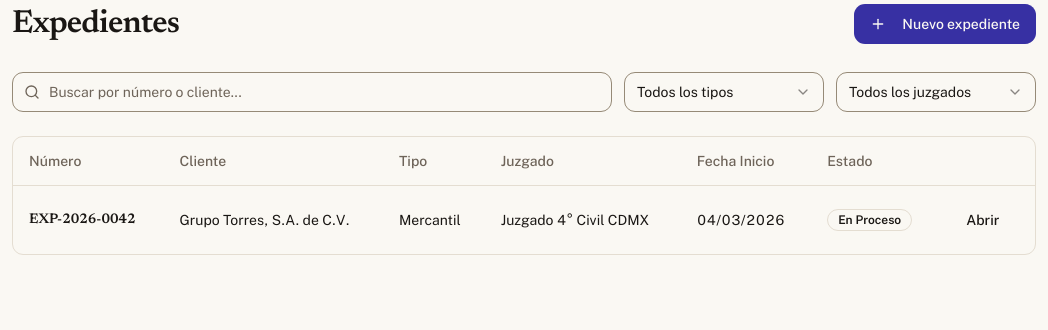
the states are mutually distinguishable › names what was searched when a filter matched nothing
Check: the row "EXP-2026-0042" is shown, box [13,185,1035,254]
Type "zzz" into the search field labelled "Buscar por número o cliente..." at (312, 92), box [12,72,612,112]
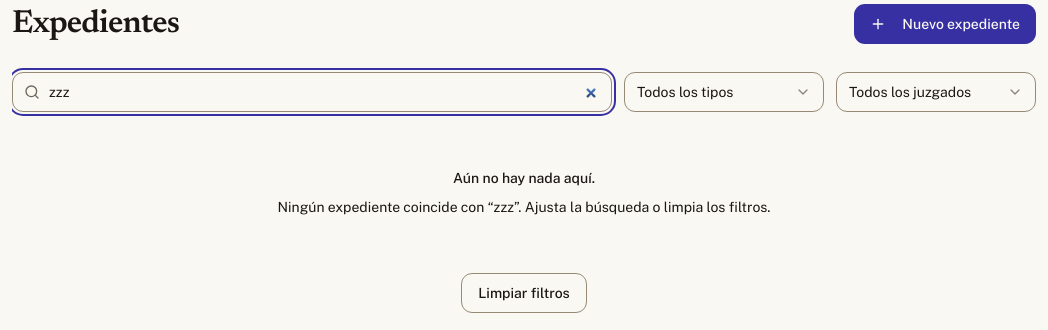
Check: the text with test id "empty-state-guidance" shows "zzz", box [278,199,770,215]
